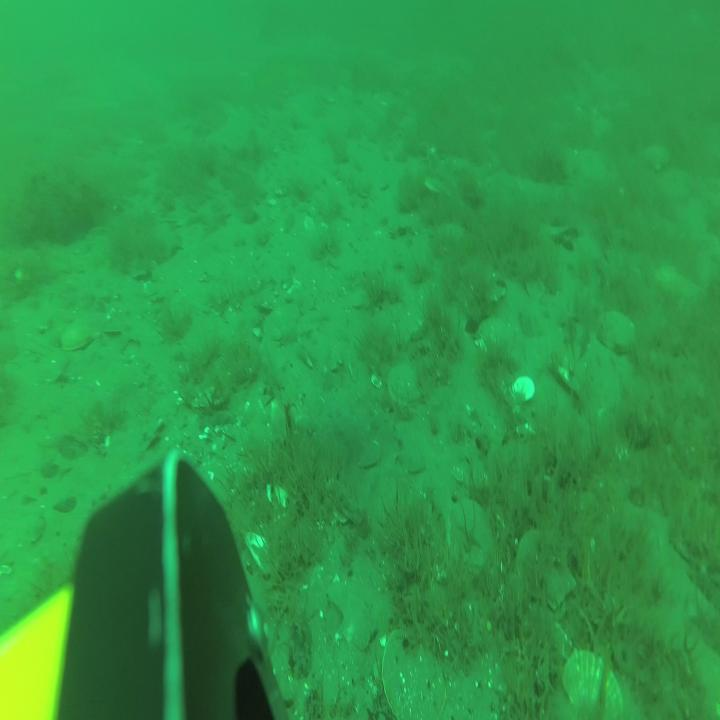scallop: (383, 623, 448, 720), (516, 523, 578, 612), (562, 643, 627, 720), (458, 255, 508, 304), (386, 362, 426, 412), (597, 305, 638, 352), (262, 298, 303, 344), (59, 320, 99, 354), (642, 139, 672, 175)
